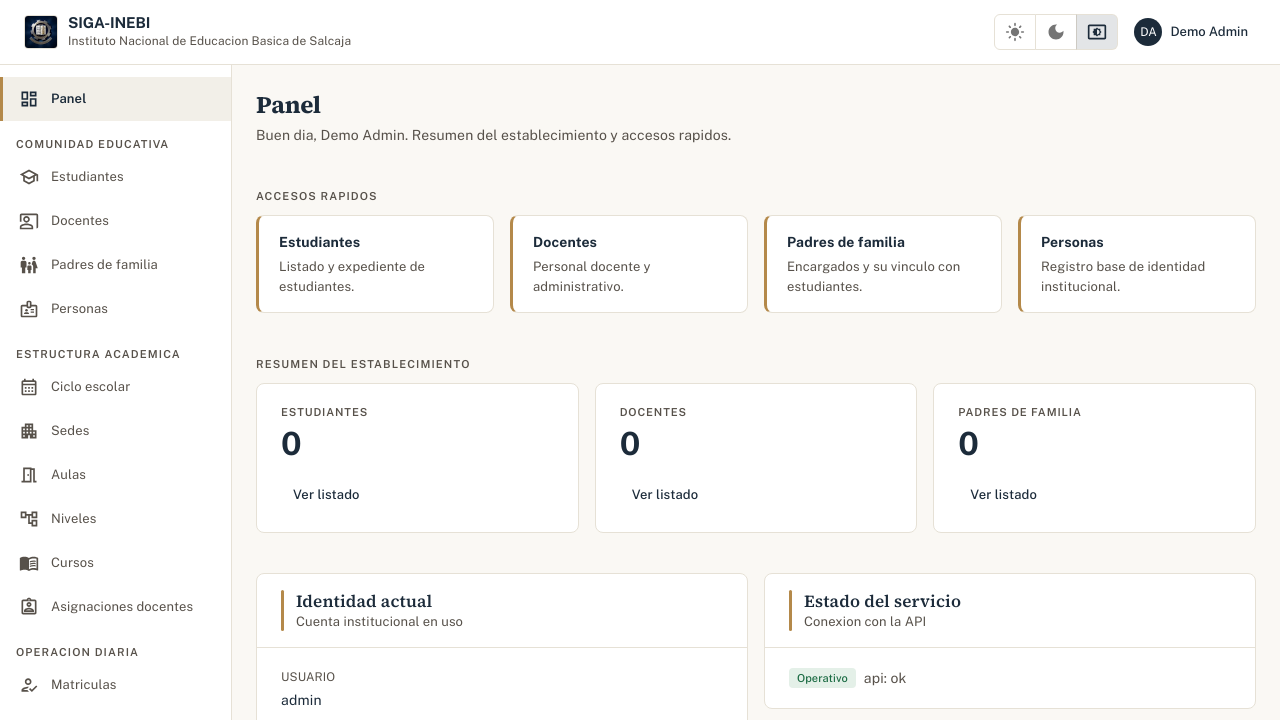
Test: navegacion de modulos › navega desde el panel hasta la pantalla de personas
Click the link "Personas". click: (63, 309)
box: left=19, top=299, right=108, bottom=319
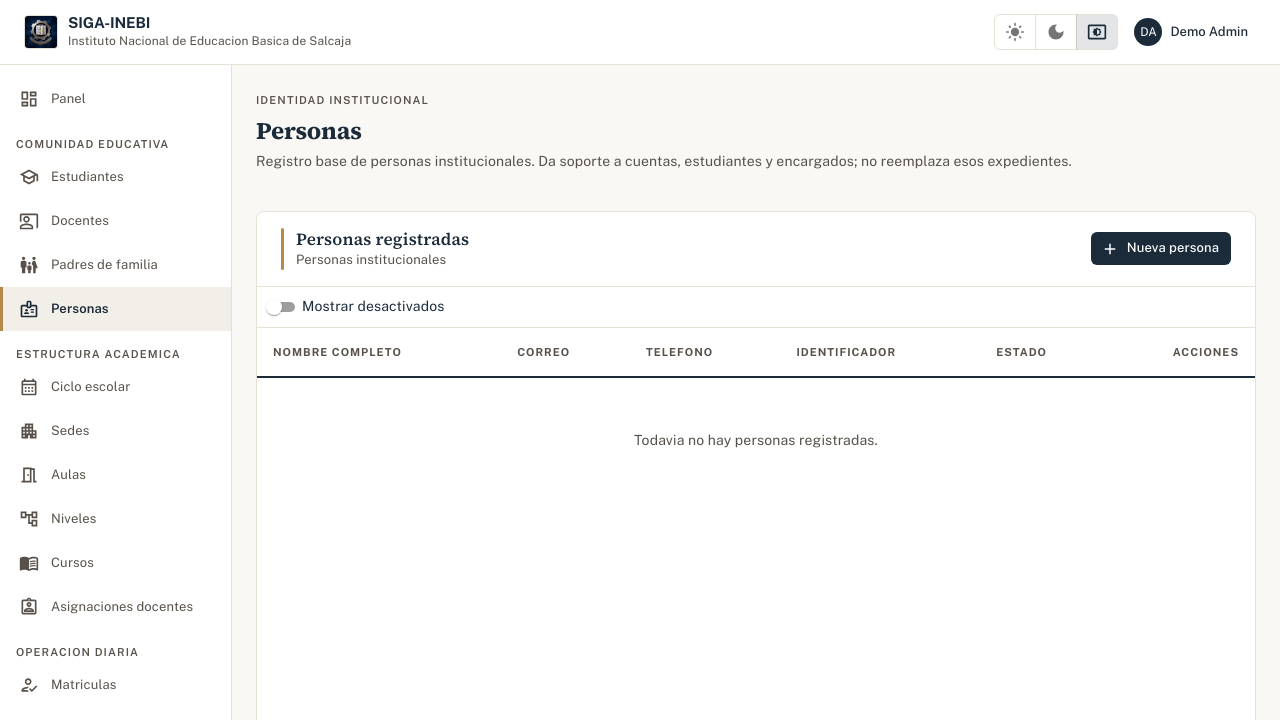
Now the heading "Personas" is shown, box left=256, top=114, right=362, bottom=147
